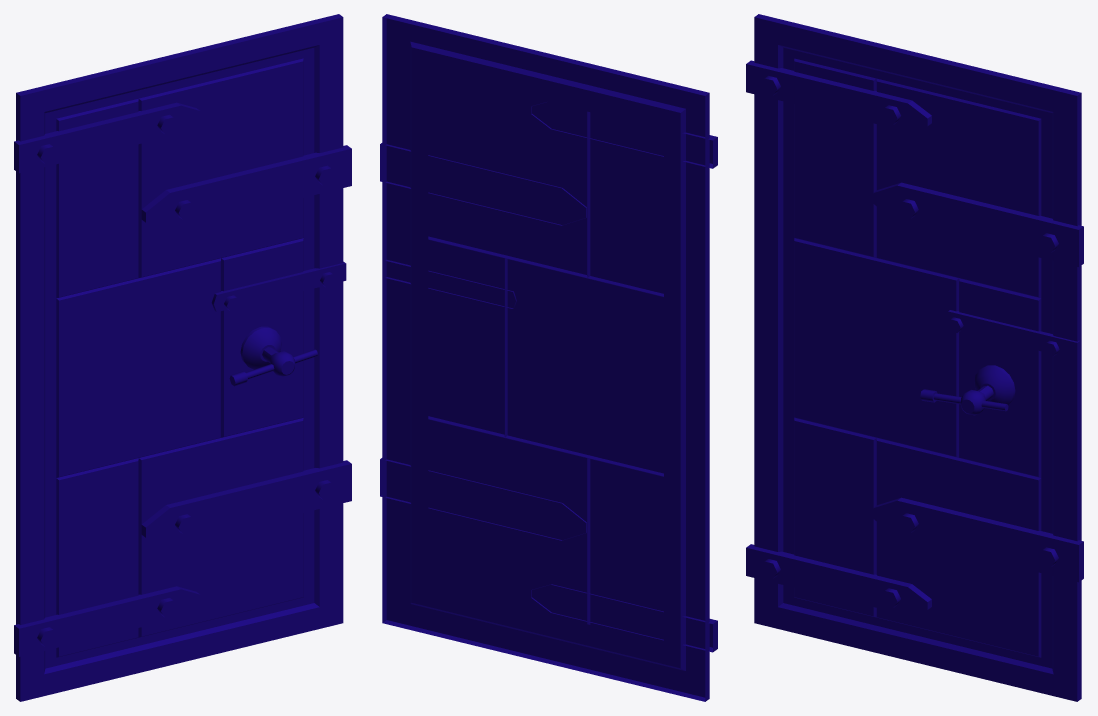
File: Porte_02_4x4x0.FBX
3 renders of one model, left to right at view 1: azimuth 30°, elevation 25°; view 2: azimuth 150°, elevation 25°; view 3: azimuth 330°, elevation 25°, orthographic.
Parts seen in each view (by area): view 1: Porte_02_4x4x0; view 2: Porte_02_4x4x0; view 3: Porte_02_4x4x0.
Part boxes in pixels (box(x1,y1,x2,y2)): Porte_02_4x4x0: box(14, 14, 351, 701); Porte_02_4x4x0: box(380, 14, 717, 701); Porte_02_4x4x0: box(746, 14, 1083, 701).
Size of the model in its own units: 156 by 272 by 25.46.
